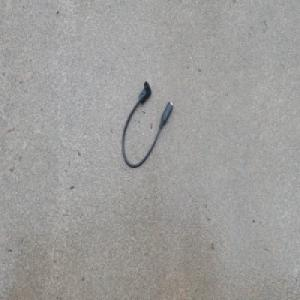Wire: (121, 79, 173, 168)
